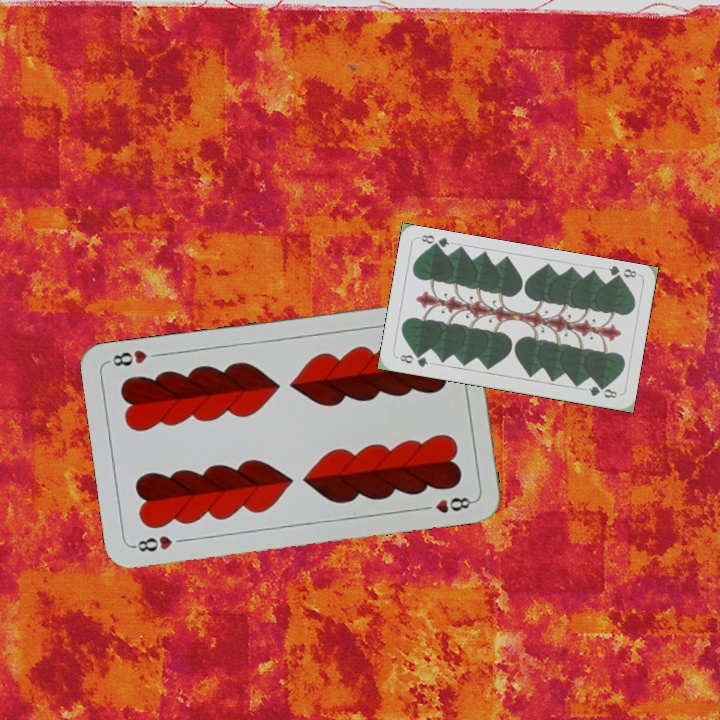G8: (604, 262, 639, 284), (396, 350, 431, 369)
H8: (129, 531, 175, 554)
